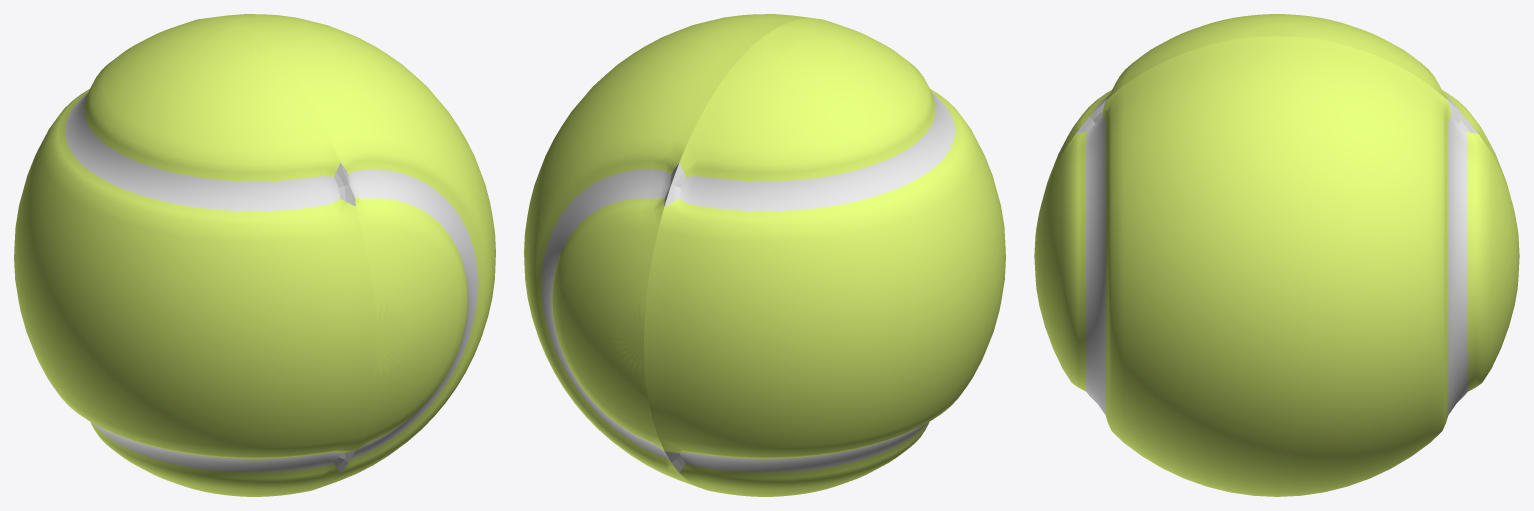
Rendered from tenis.fbx.
The picture shows the model from 3 angles, left to right: view 1: azimuth 30°, elevation 25°; view 2: azimuth 150°, elevation 25°; view 3: azimuth 270°, elevation 25°; orthographic projection.
Visible parts, largest first — view 1: Sphere, Sphere.001; view 2: Sphere, Sphere.001; view 3: Sphere.001, Sphere.
Boxes of the visible parts, x1=… form: Sphere: x1=14, y1=18, x2=375, y2=496; Sphere.001: x1=209, y1=14, x2=495, y2=486; Sphere: x1=644, y1=18, x2=1005, y2=496; Sphere.001: x1=524, y1=14, x2=810, y2=486; Sphere.001: x1=1034, y1=36, x2=1519, y2=496; Sphere: x1=1040, y1=14, x2=1513, y2=207.
Size of the model in its own units: 197 by 199 by 199.
